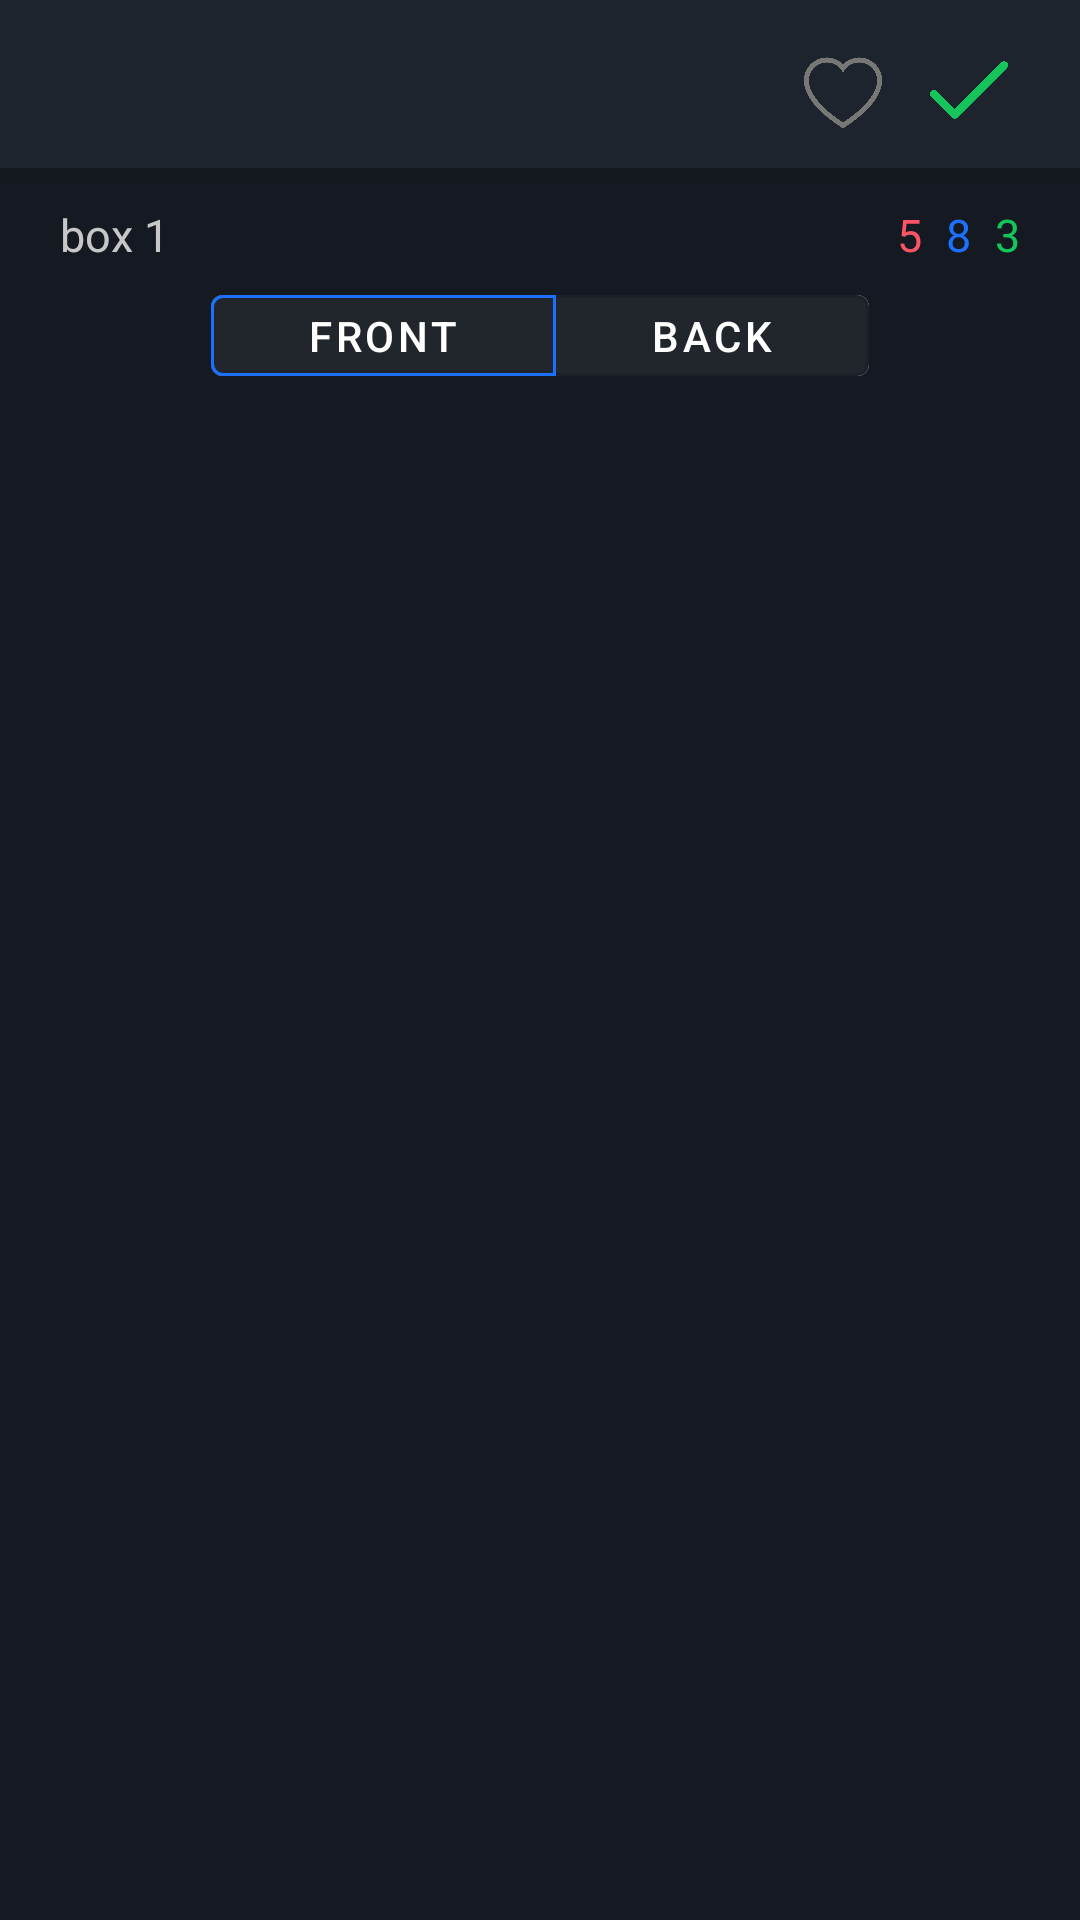

Locate icon controls on the screen. Image size 1080*1920, boxes as (x1, y1, x2, y2).
heart: (804, 57, 882, 128)
tick: (930, 61, 1008, 119)
